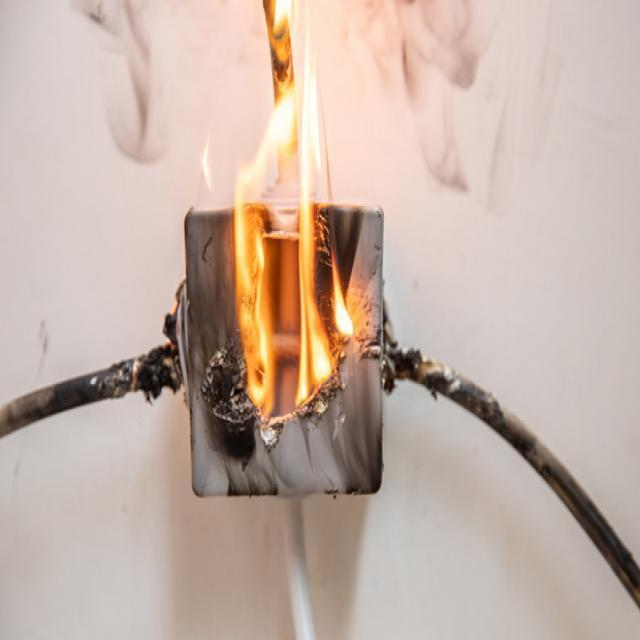Fire: (188, 84, 384, 432)
